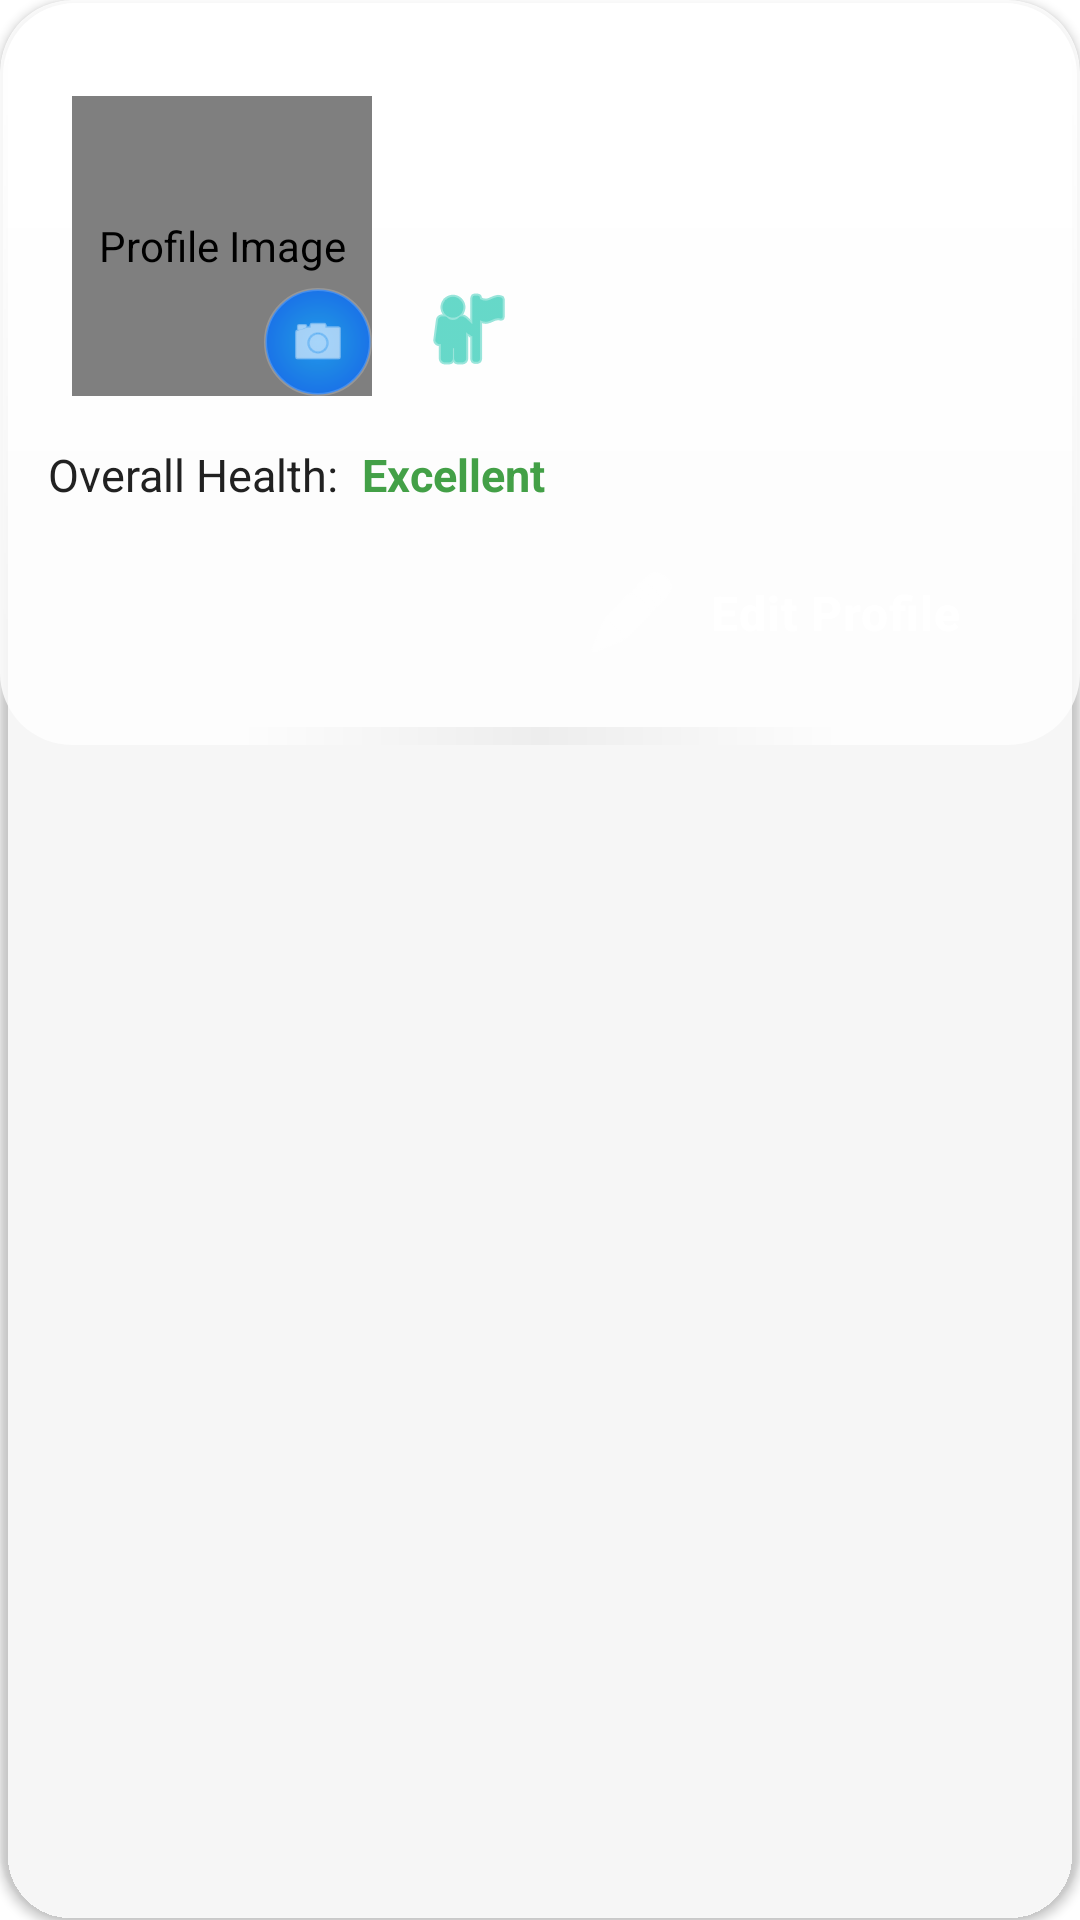

Icons on this 1080×1920 Android screen, each with its box as (x1, y1, x2, y2):
camera: (295, 323, 341, 360)
